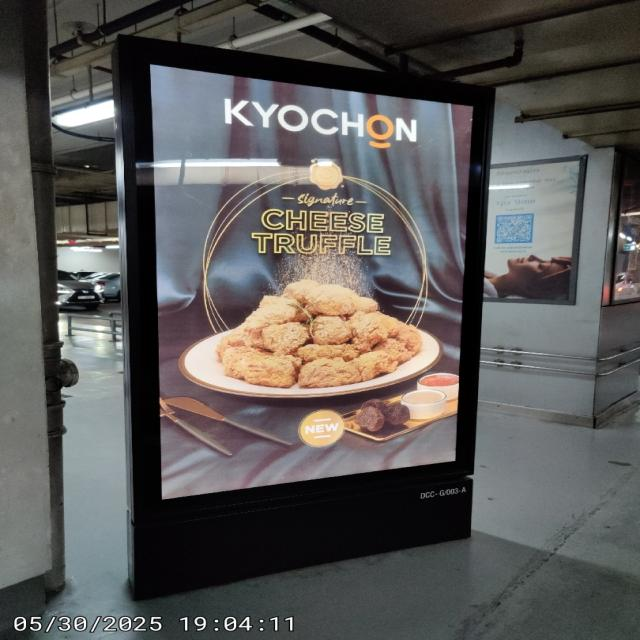mupi: (119, 35, 497, 597)
